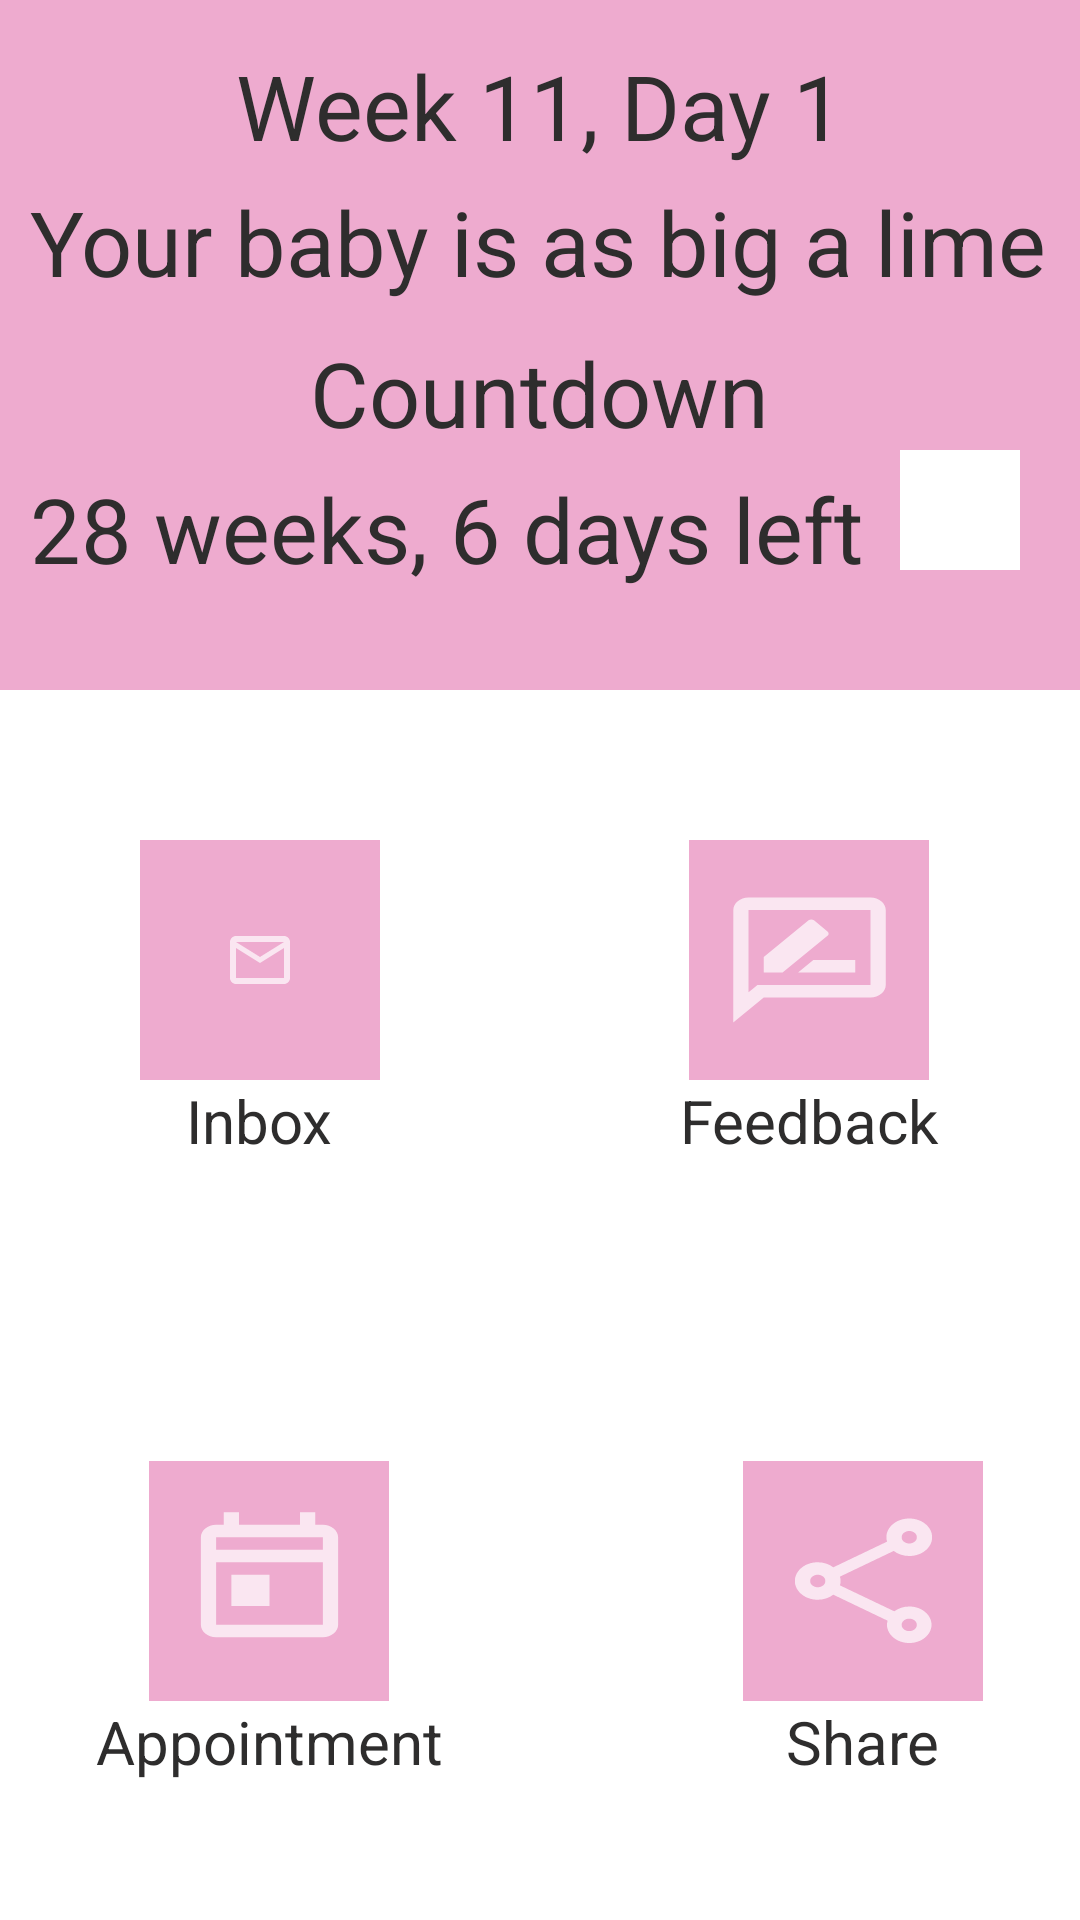

Where to tap for icons on this 1080 x 1920 app screen, as [x,y]:
mail: [260,960]
